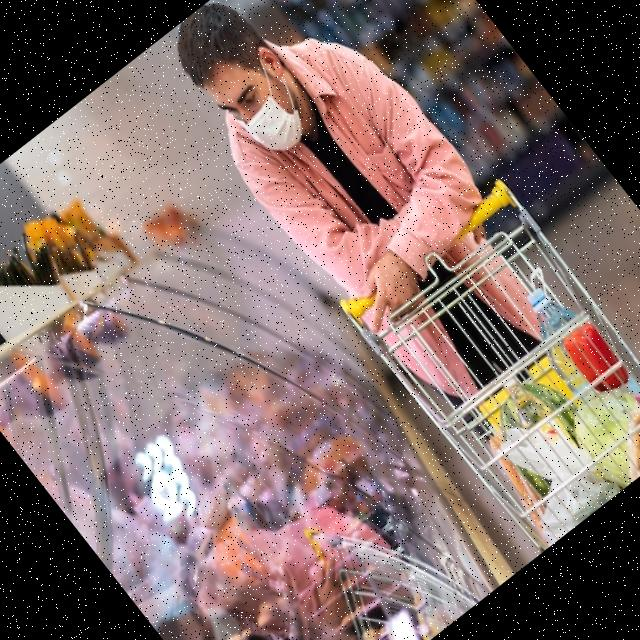Person: (142, 0, 580, 423)
